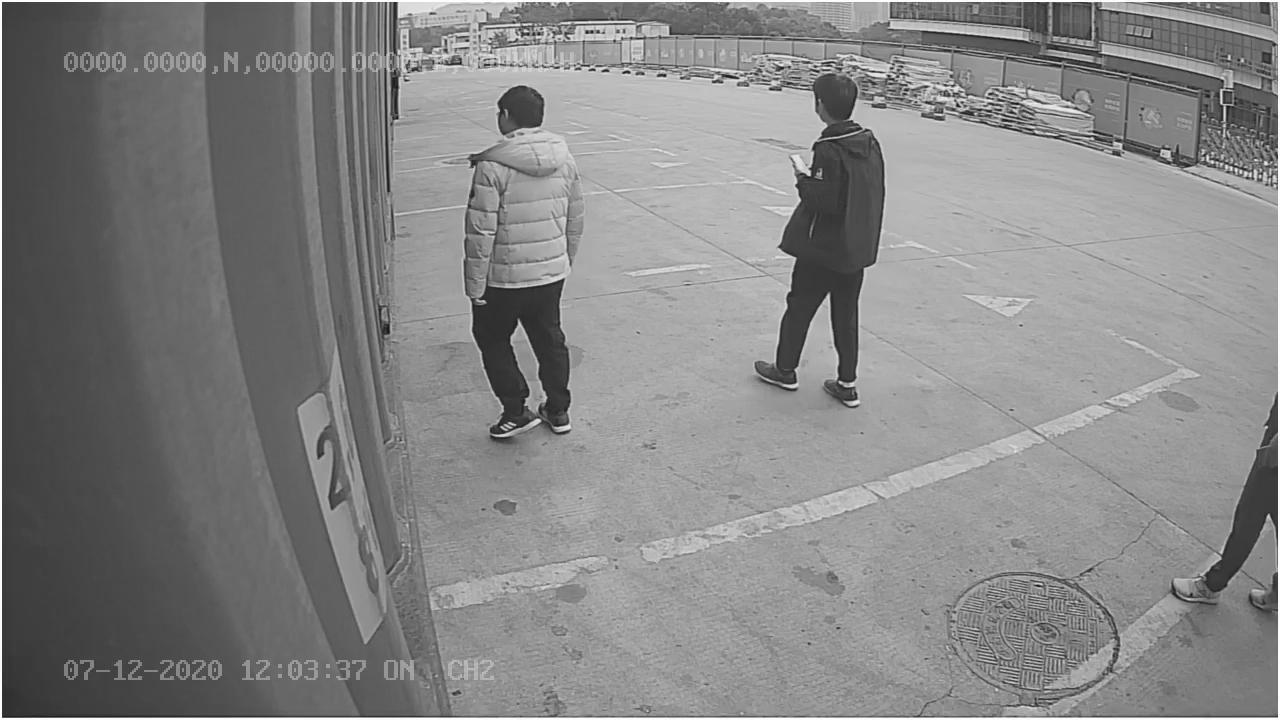person: (747, 59, 890, 414), (451, 85, 585, 444)
